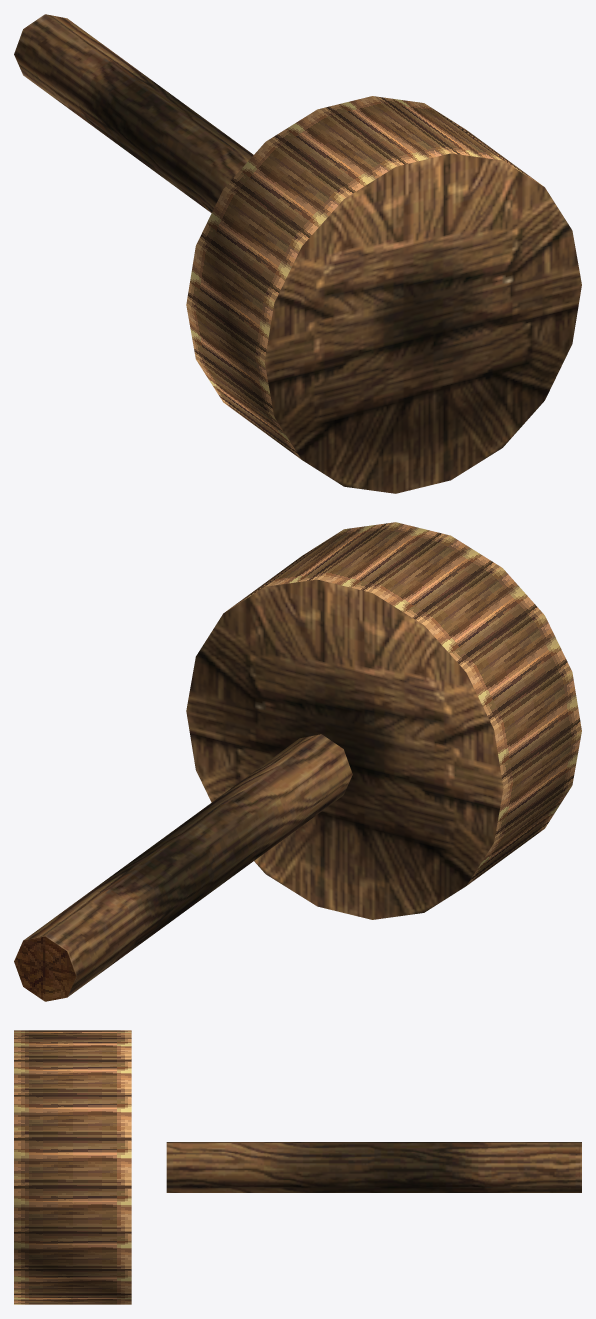
File: INST_SWORDLIGHT_DRUME.fbx
3 views of the same model, one above another, from view 1: azimuth 30°, elevation 25°; view 2: azimuth 150°, elevation 25°; view 3: azimuth 270°, elevation 25° (orthographic). The views are drawn at different scales.
Visible parts, largest first — view 1: INST_SWORDLIGHT_DRUME; view 2: INST_SWORDLIGHT_DRUME; view 3: INST_SWORDLIGHT_DRUME.
Part boxes in pixels (<box>): INST_SWORDLIGHT_DRUME: <box>14,14,581,493</box>; INST_SWORDLIGHT_DRUME: <box>14,522,581,1001</box>; INST_SWORDLIGHT_DRUME: <box>14,1030,581,1304</box>.
Size of the model in its own units: 25400 by 25014 by 52431.
4 materials, 4 textured.
